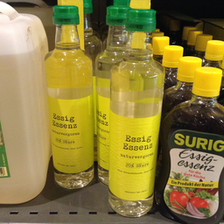vinegar: (107, 10, 156, 218), (43, 5, 96, 191), (164, 67, 222, 224)
